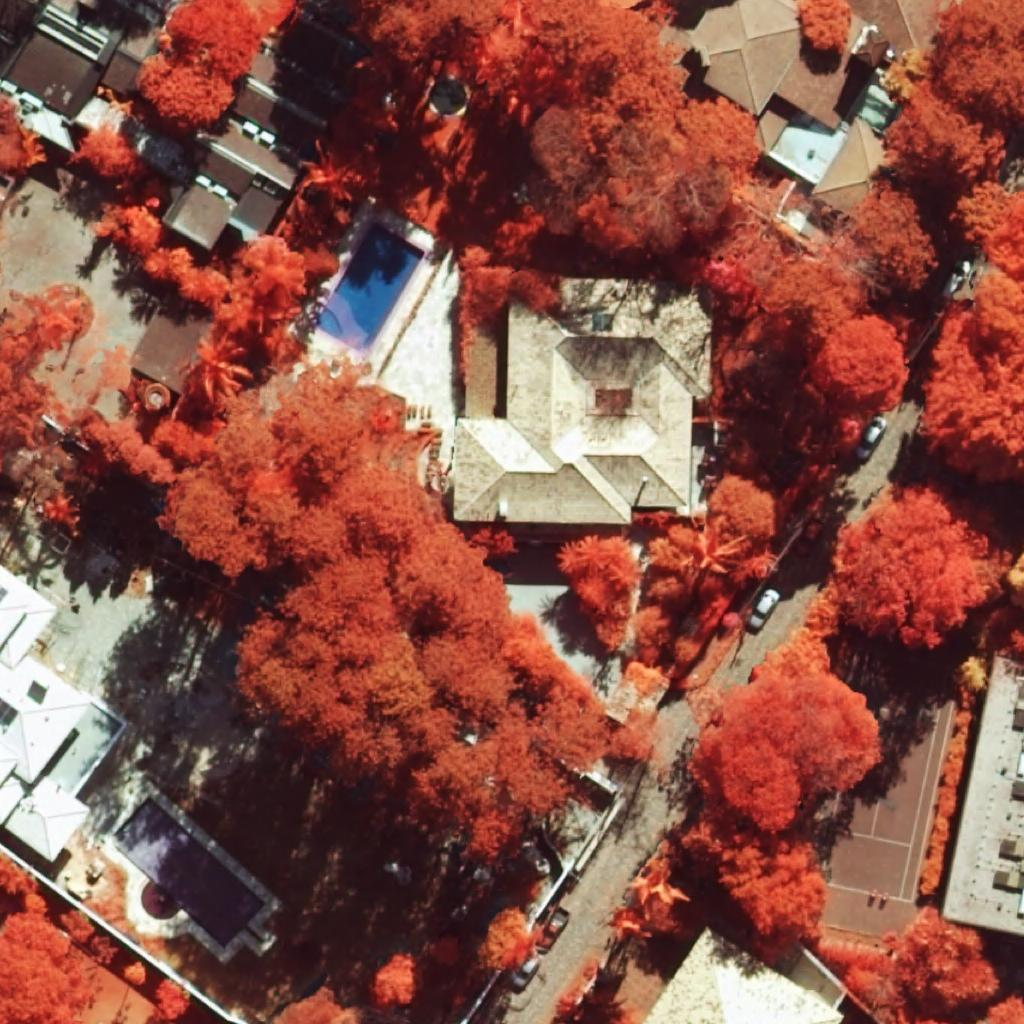pool: (315, 223, 425, 356)
